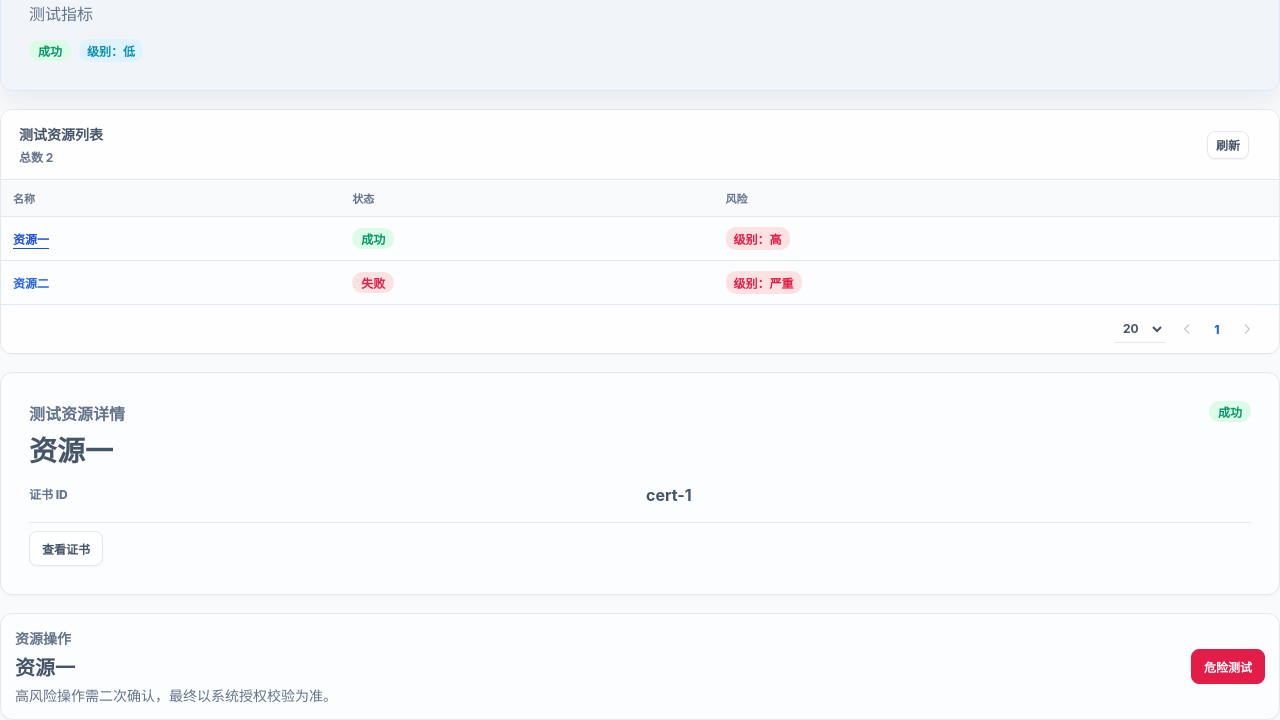
Test case: BusinessResourcePage › 高风险操作点击后出现确认弹窗
(page scrolled)
Click the button "危险测试". click: (1228, 667)
box: [1191,649,1265,684]
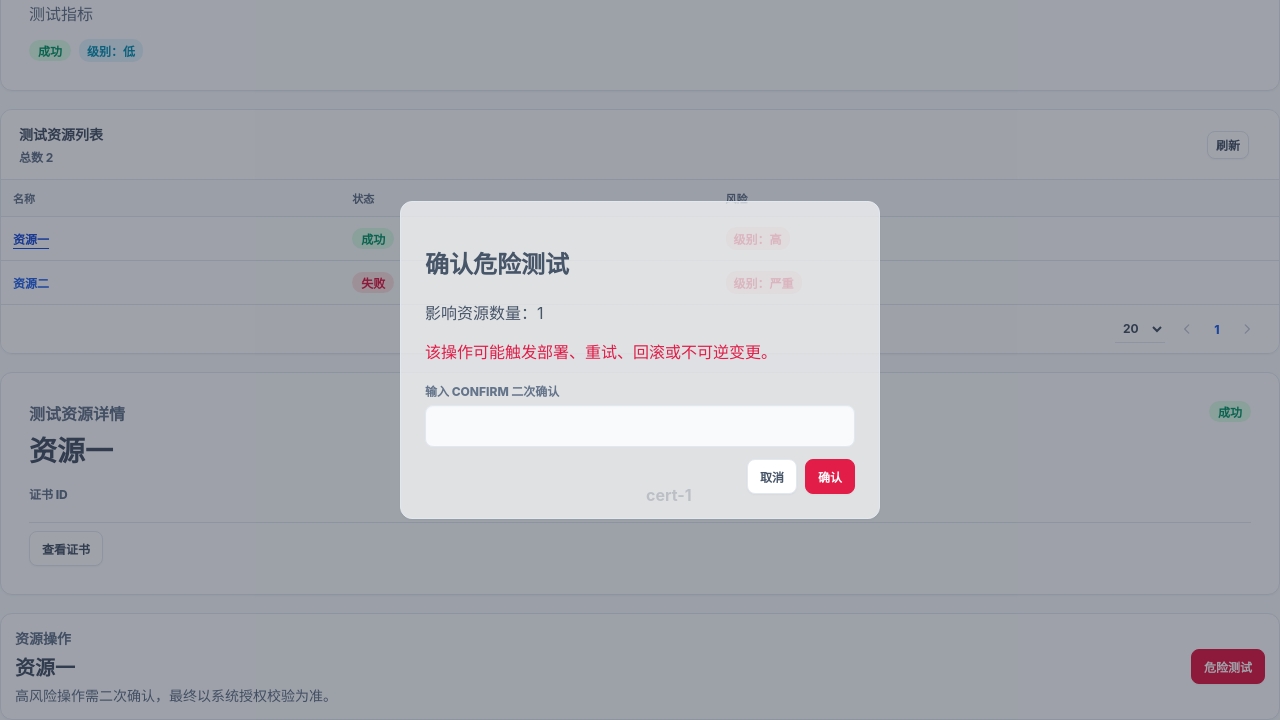
Now the text "输入 CONFIRM 二次确认" is shown, box [425,384,559,399]
Now the dialog is shown
